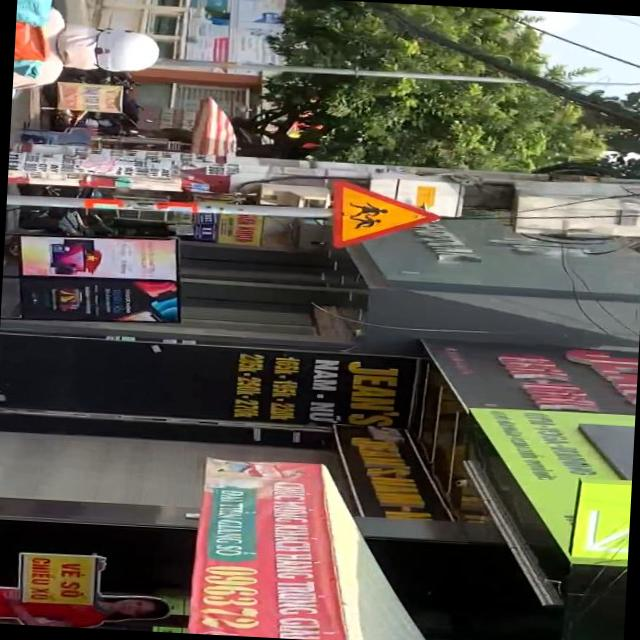W-225: (328, 179, 442, 254)
